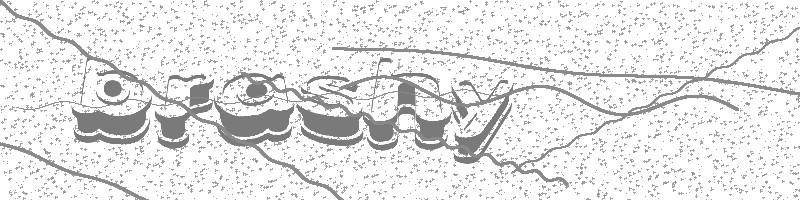a: (214, 71, 296, 148)
b: (68, 56, 151, 144)
h: (367, 57, 451, 150)
r: (152, 73, 215, 150)
s: (296, 73, 366, 149)
y: (450, 76, 514, 168)
